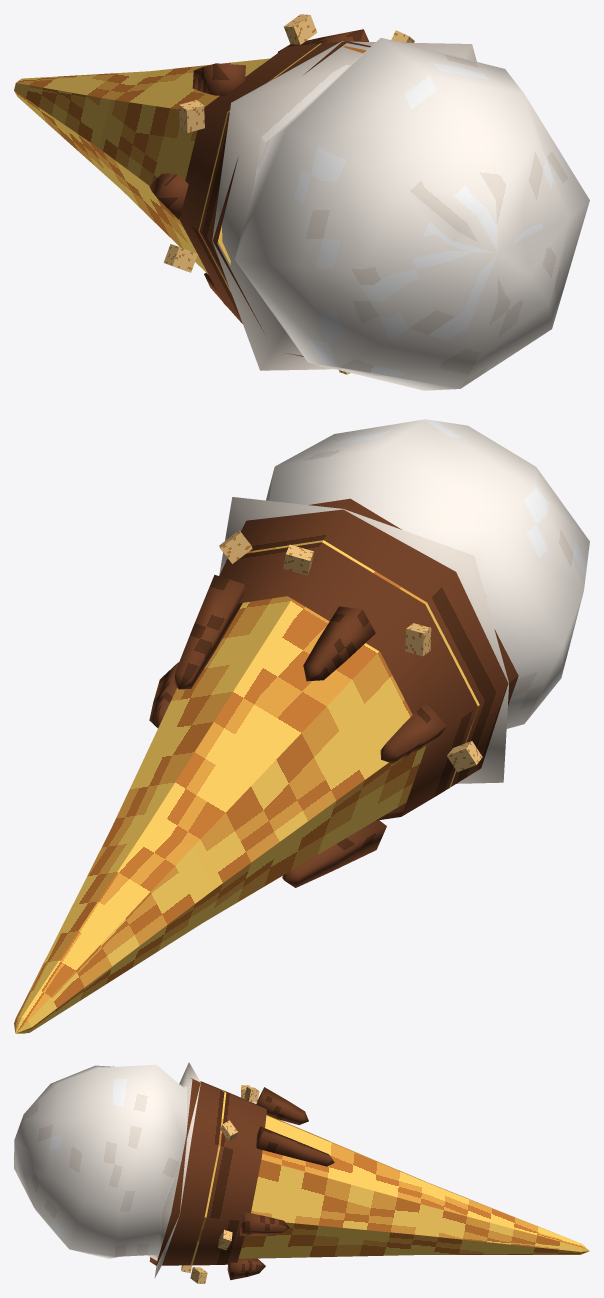
File: Waffle Cone.fbx
3 renders of one model, top to bottom at view 1: azimuth 30°, elevation 25°; view 2: azimuth 150°, elevation 25°; view 3: azimuth 270°, elevation 25°, orthographic. The views are drawn at different scales.
Parts seen in each view (by area): view 1: Waffle Cone scoop, Waffle Cone cone.001, Waffle Cone dip, Waffle Cone drip 2, Waffle Cone drip 3, Waffle Cone nut 3, Waffle Cone nut 2, Waffle Cone cone lip, Waffle Cone nut 4, Waffle Cone drip 1; view 2: Waffle Cone cone.001, Waffle Cone scoop, Waffle Cone dip, Waffle Cone drip 1, Waffle Cone drip 2, Waffle Cone drip 4, Waffle Cone drip 3, Waffle Cone cone lip, Waffle Cone drip 0; view 3: Waffle Cone scoop, Waffle Cone cone.001, Waffle Cone dip, Waffle Cone drip 1, Waffle Cone drip 2, Waffle Cone drip 0, Waffle Cone drip 5, Waffle Cone cone lip.
Boxes of the visible parts, bbox=[...] form: Waffle Cone scoop: bbox=[212, 37, 589, 390]; Waffle Cone cone.001: bbox=[14, 58, 270, 274]; Waffle Cone dip: bbox=[179, 41, 370, 356]; Waffle Cone drip 2: bbox=[192, 63, 245, 95]; Waffle Cone drip 3: bbox=[149, 173, 188, 219]; Waffle Cone nut 3: bbox=[179, 100, 204, 132]; Waffle Cone nut 2: bbox=[283, 14, 317, 44]; Waffle Cone cone lip: bbox=[198, 43, 366, 292]; Waffle Cone nut 4: bbox=[163, 244, 197, 272]; Waffle Cone drip 1: bbox=[278, 29, 369, 52]; Waffle Cone cone.001: bbox=[14, 596, 426, 1033]; Waffle Cone scoop: bbox=[219, 419, 589, 783]; Waffle Cone dip: bbox=[219, 498, 518, 820]; Waffle Cone drip 1: bbox=[174, 574, 244, 689]; Waffle Cone drip 2: bbox=[303, 606, 375, 681]; Waffle Cone drip 4: bbox=[282, 820, 386, 887]; Waffle Cone drip 3: bbox=[380, 702, 446, 763]; Waffle Cone cone lip: bbox=[246, 540, 479, 788]; Waffle Cone drip 0: bbox=[149, 662, 178, 727]; Waffle Cone scoop: bbox=[14, 1062, 200, 1278]; Waffle Cone cone.001: bbox=[238, 1115, 589, 1258]; Waffle Cone dip: bbox=[149, 1078, 266, 1265]; Waffle Cone drip 1: bbox=[256, 1126, 334, 1166]; Waffle Cone drip 2: bbox=[256, 1087, 308, 1124]; Waffle Cone drip 0: bbox=[240, 1212, 289, 1235]; Waffle Cone drip 5: bbox=[227, 1258, 265, 1280]; Waffle Cone cone lip: bbox=[190, 1088, 226, 1265].
Size of the model in its own units: 0.1471 by 0.1535 by 0.382.
Materials: 4 (4 with a texture image).
